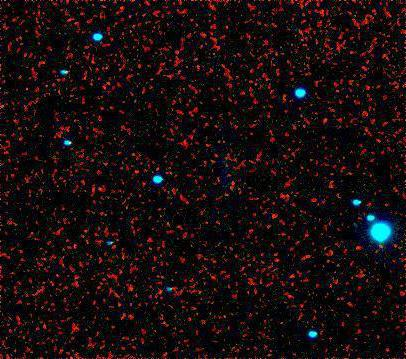star: (84, 175, 114, 205)
